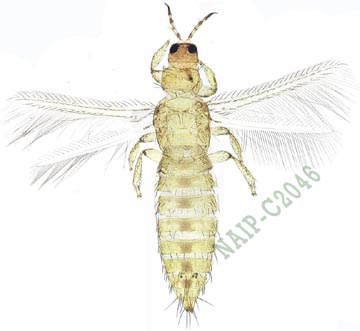Thrips: (14, 16, 357, 321)
